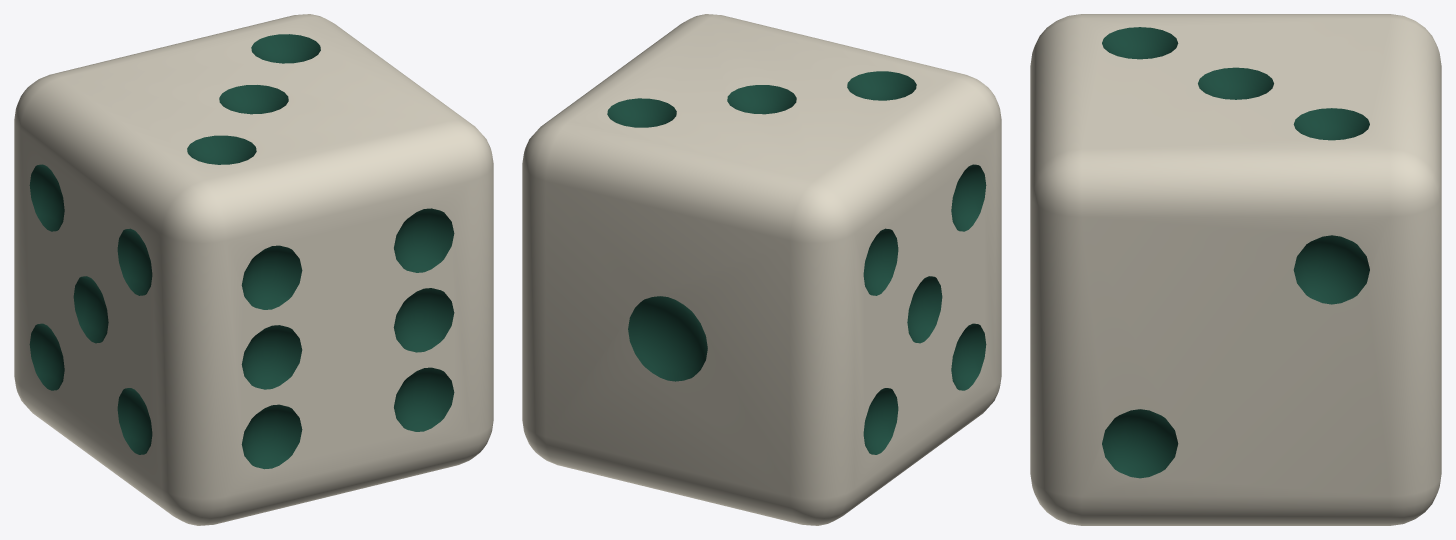
Rendered from die.glb.
3 renders of one model, left to right at view 1: azimuth 30°, elevation 25°; view 2: azimuth 150°, elevation 25°; view 3: azimuth 270°, elevation 25°, orthographic. The views are drawn at different scales.
Visible parts, largest first — view 1: Die; view 2: Die; view 3: Die.
Part boxes in pixels (bbox=[...]): Die: bbox=[14, 14, 493, 525]; Die: bbox=[522, 14, 1001, 525]; Die: bbox=[1030, 14, 1441, 525].
Size of the model in its own units: 0.6 by 0.6 by 0.6.
